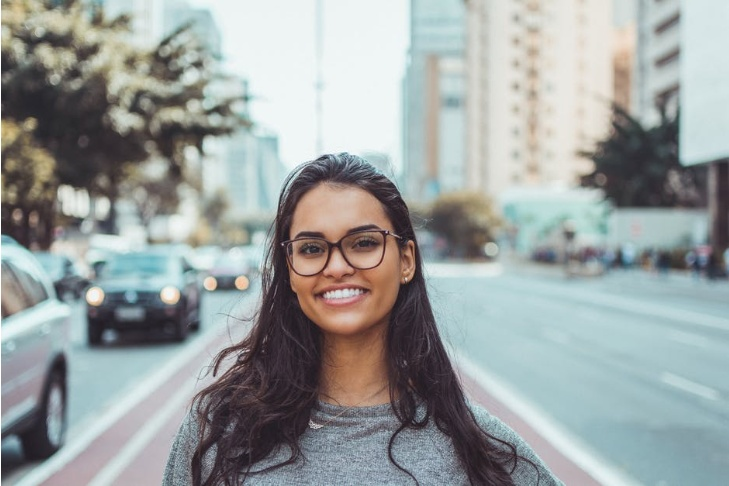face: (284, 182, 392, 334)
